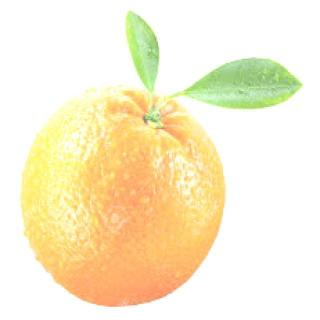orange: (20, 3, 303, 309)
